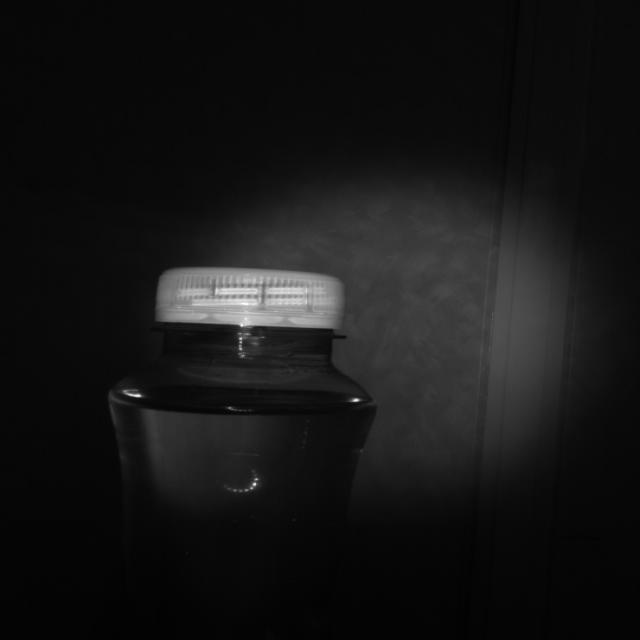Good: (156, 266, 348, 332)
